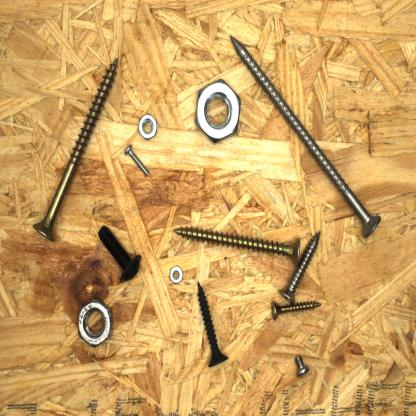screw: (228, 32, 383, 240), (32, 54, 122, 243), (172, 225, 302, 267), (194, 276, 232, 374), (278, 228, 322, 304), (95, 220, 144, 288), (268, 300, 325, 322), (124, 144, 151, 178), (292, 349, 312, 379)
